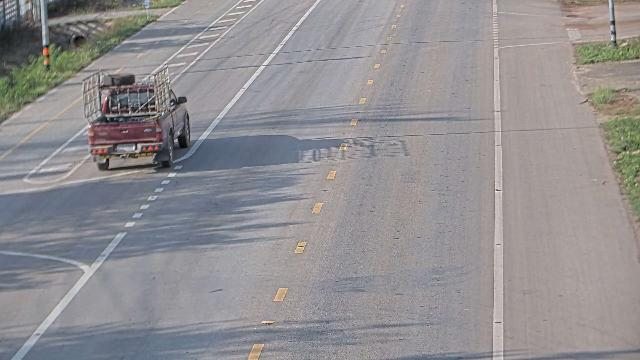pickup-truck: (81, 64, 191, 171)
